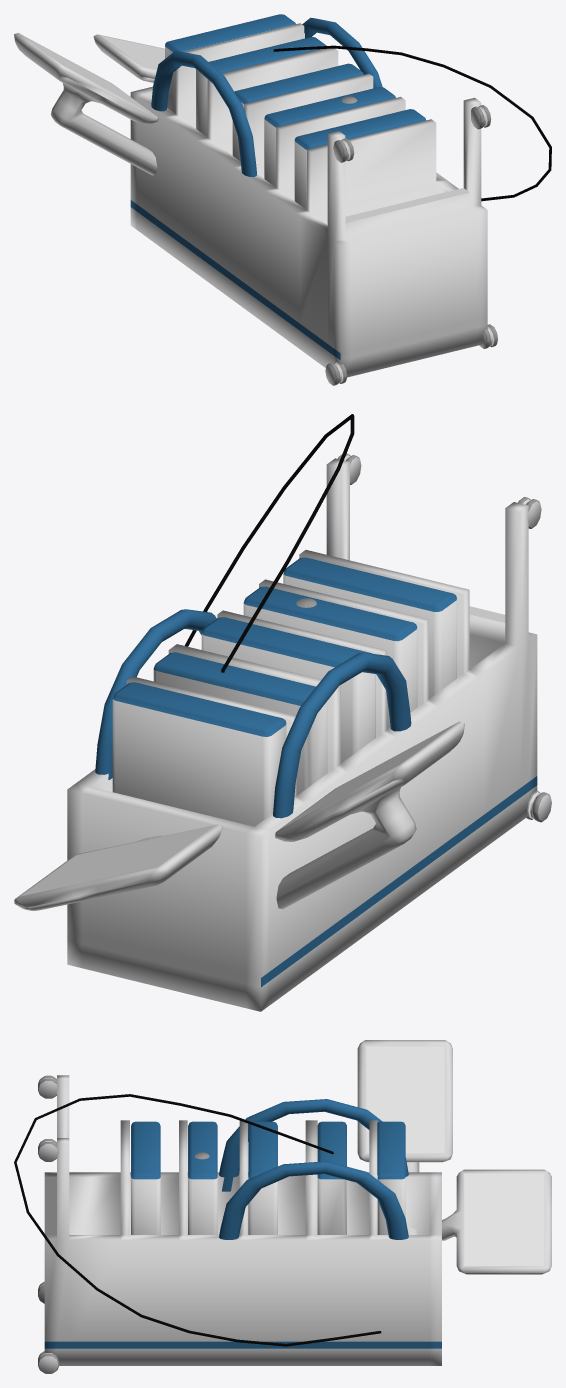
3 renders of one model, top to bottom at view 1: azimuth 30°, elevation 25°; view 2: azimuth 150°, elevation 25°; view 3: azimuth 270°, elevation 25°, orthographic. The views are drawn at different scales.
Visible parts, largest first — view 1: Circle.002; view 2: Circle.002; view 3: Circle.002.
Boxes of the visible parts, <box> form: Circle.002: <box>14,14,551,385</box>; Circle.002: <box>14,414,551,1011</box>; Circle.002: <box>14,1040,551,1373</box>.
Size of the model in its own units: 92.53 by 71.76 by 134.
